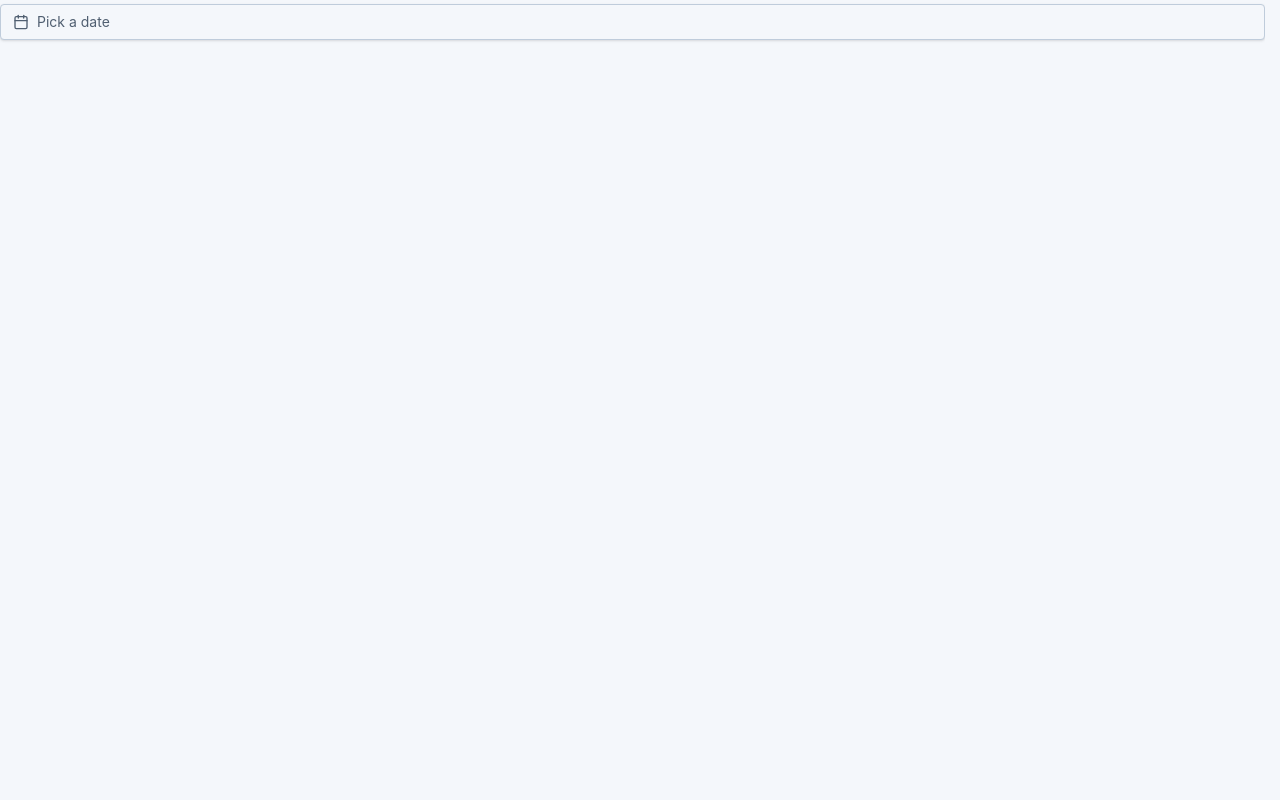
Test: DatePicker › disables the Today button when today is outside the allowed range
This screenshot has width=1280, height=800.
What coordinates should you click on to do the following:
click the button "Pick a date"
I would click on:
 (73, 22)
Its box is top-left (0, 4), bottom-right (1265, 40).
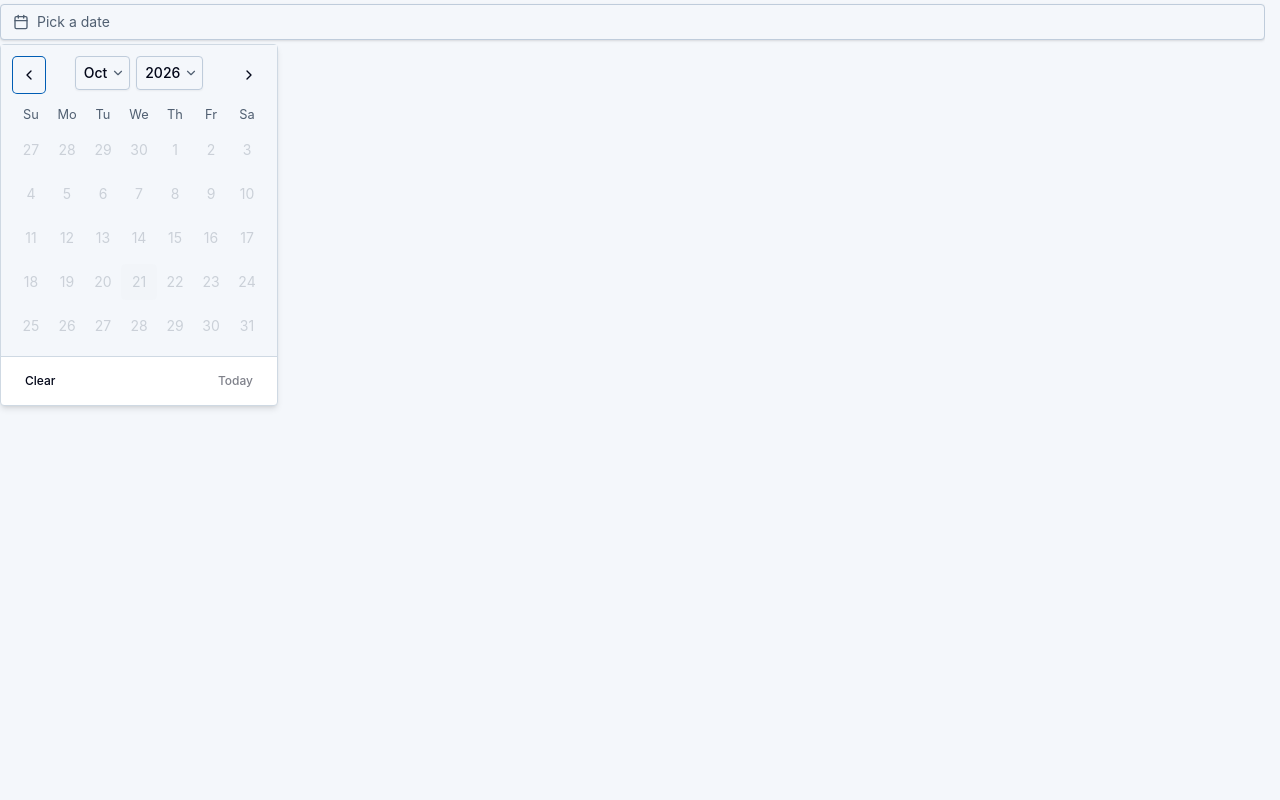
expect the button "Today" is disabled: met, box top-left (206, 365), bottom-right (265, 397)
